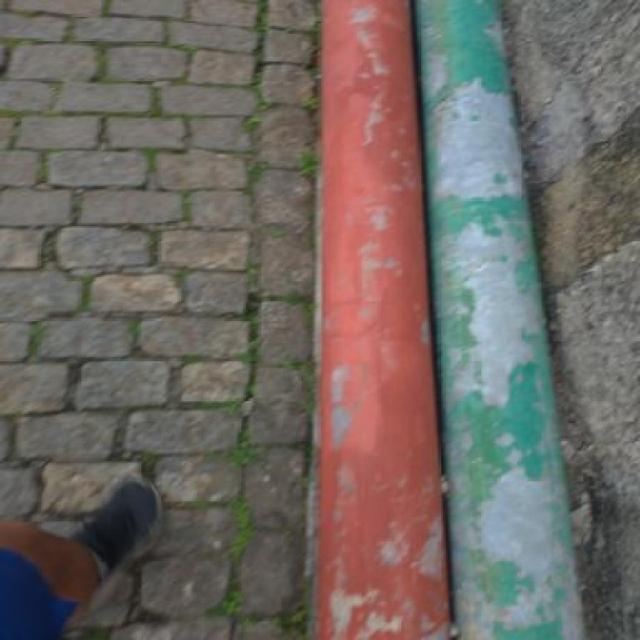gas: (417, 1, 590, 638), (314, 0, 456, 640)
